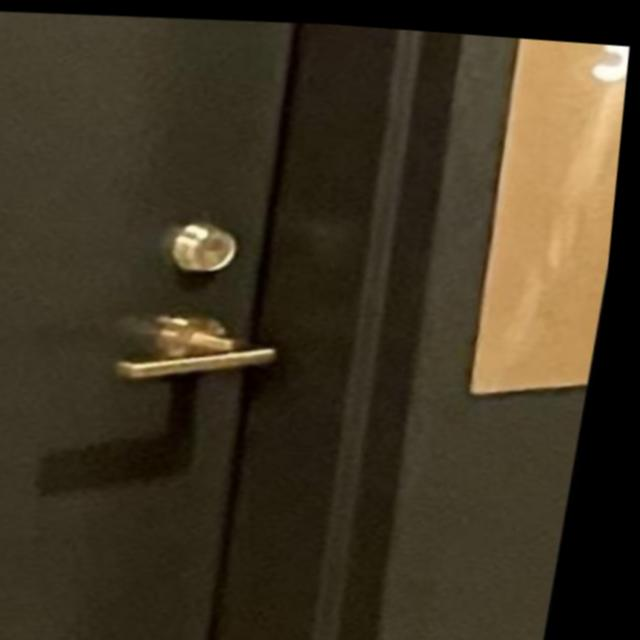door_handle: (114, 287, 317, 408)
